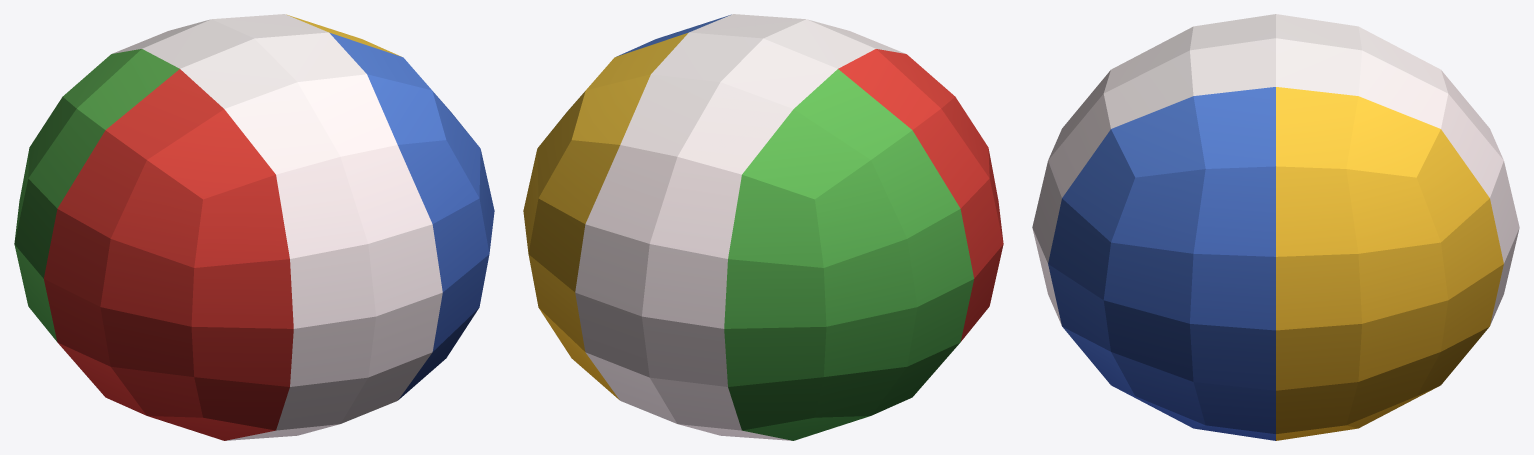
Rendered from PlayGround_Kit_Beach_Ball.fbx.
3 views of the same model, side by side, from view 1: azimuth 30°, elevation 25°; view 2: azimuth 150°, elevation 25°; view 3: azimuth 270°, elevation 25° (orthographic).
Parts seen in each view (by area): view 1: PlayGround_Kit_Beach_Ball; view 2: PlayGround_Kit_Beach_Ball; view 3: PlayGround_Kit_Beach_Ball.
Boxes of the visible parts, box(x1,y1,x2,y2) form: PlayGround_Kit_Beach_Ball: box(14, 14, 494, 440); PlayGround_Kit_Beach_Ball: box(523, 14, 1003, 440); PlayGround_Kit_Beach_Ball: box(1032, 14, 1519, 440).
Bounding box in the file's own units: 0.84 × 0.72 × 0.84.
